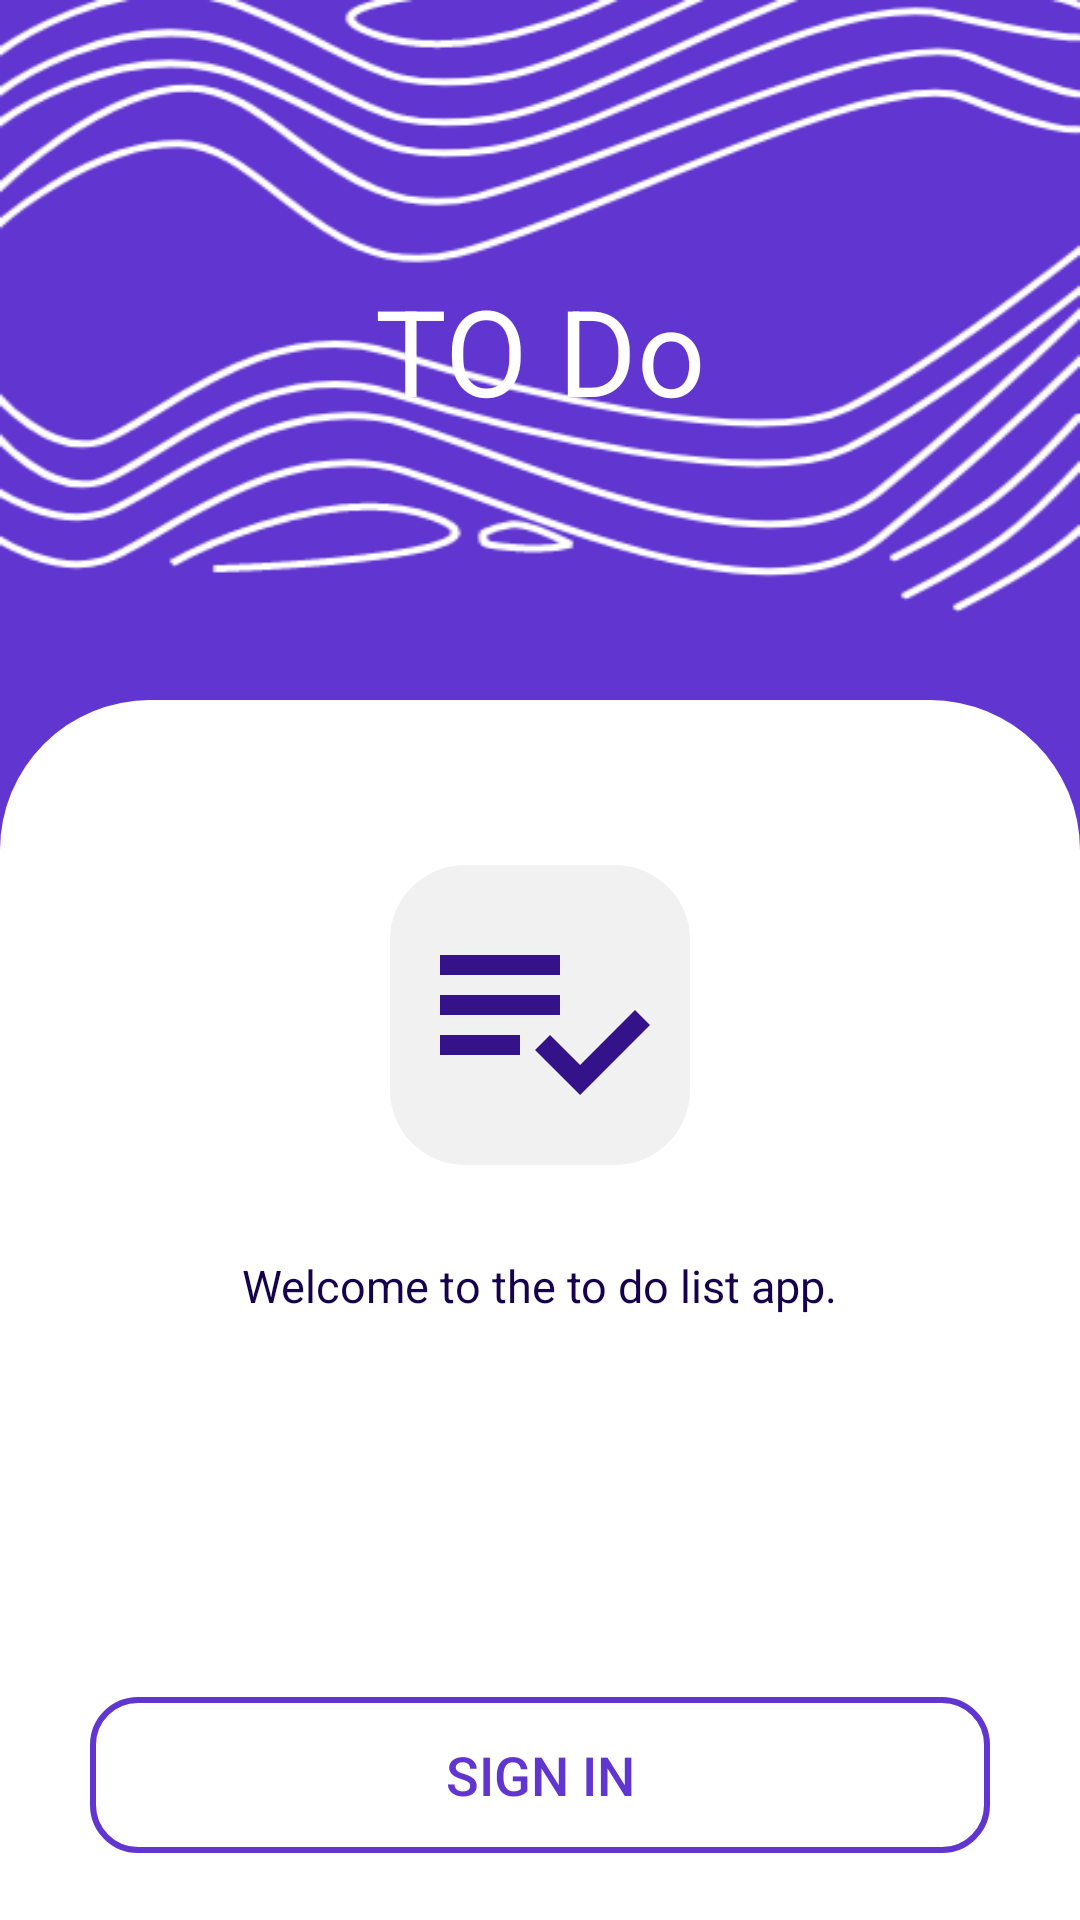

Named icons in this screenshot (1080×1920) and their bounding boxes, [x1, y1, x2, y2]:
playlist add check: [390, 865, 690, 1165]
